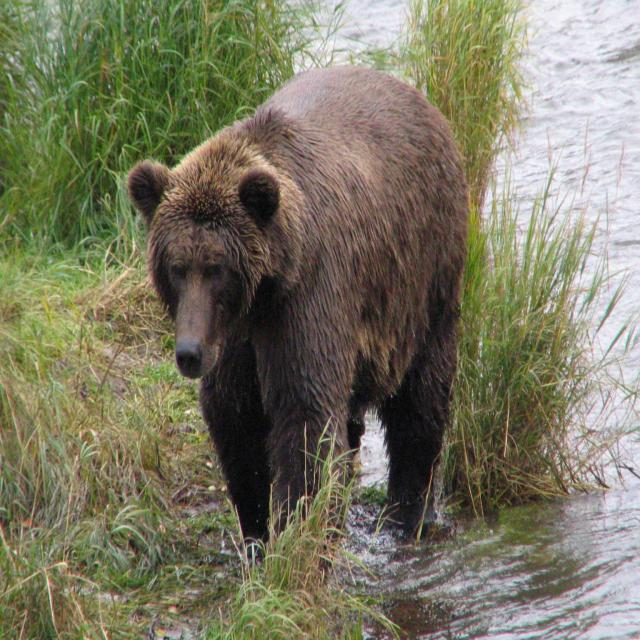bear face: (126, 66, 472, 533)
